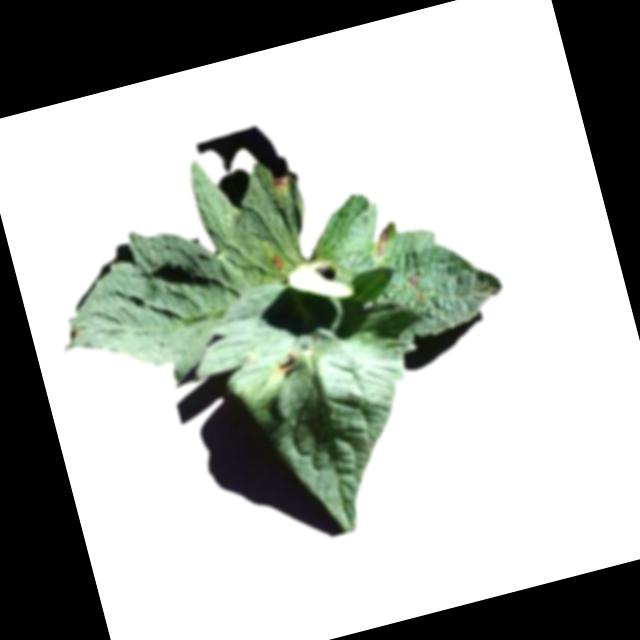Early_blight: (367, 225, 399, 260), (270, 351, 302, 379), (268, 251, 287, 274), (270, 172, 290, 193), (406, 271, 424, 288)
